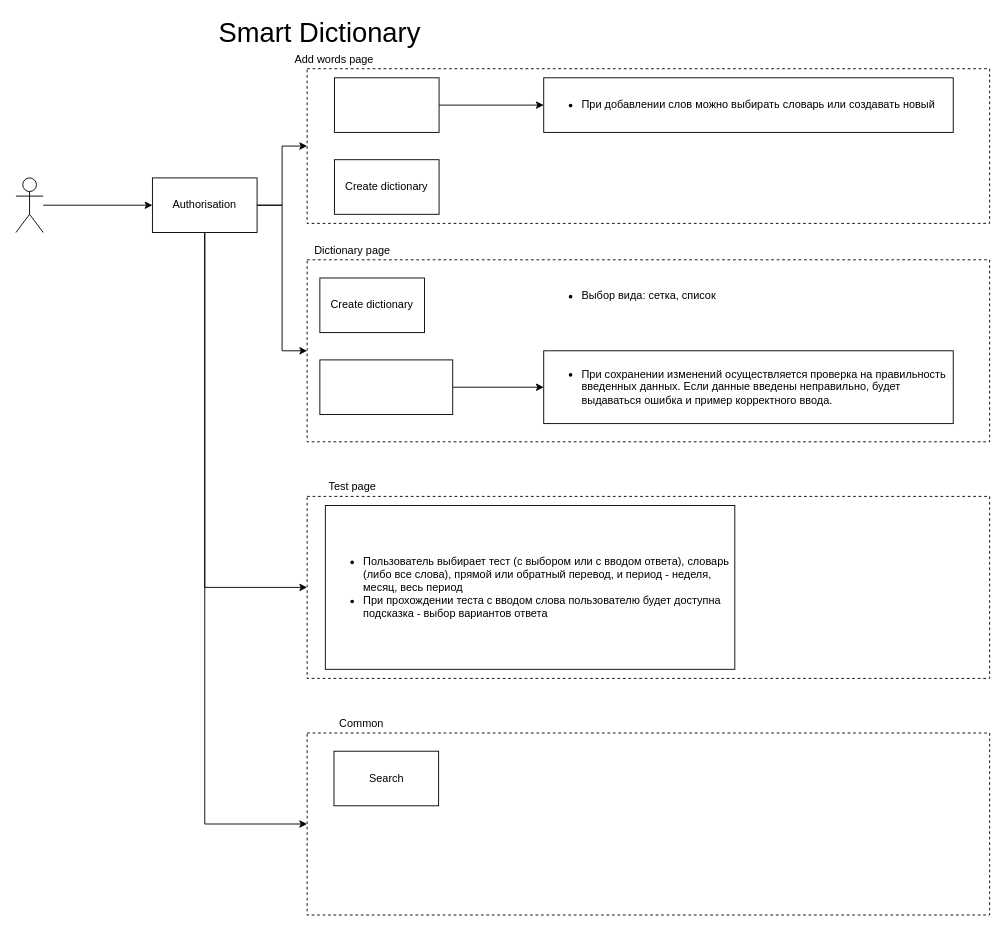
Image size: 1006x931. Some labels were removed from this diagram. Each missing label, with the centre of its shape:
Adding words into dictionary: [386,104]
Deleting/changing/adding words from dictionary: [386,387]
User: [29,205]
